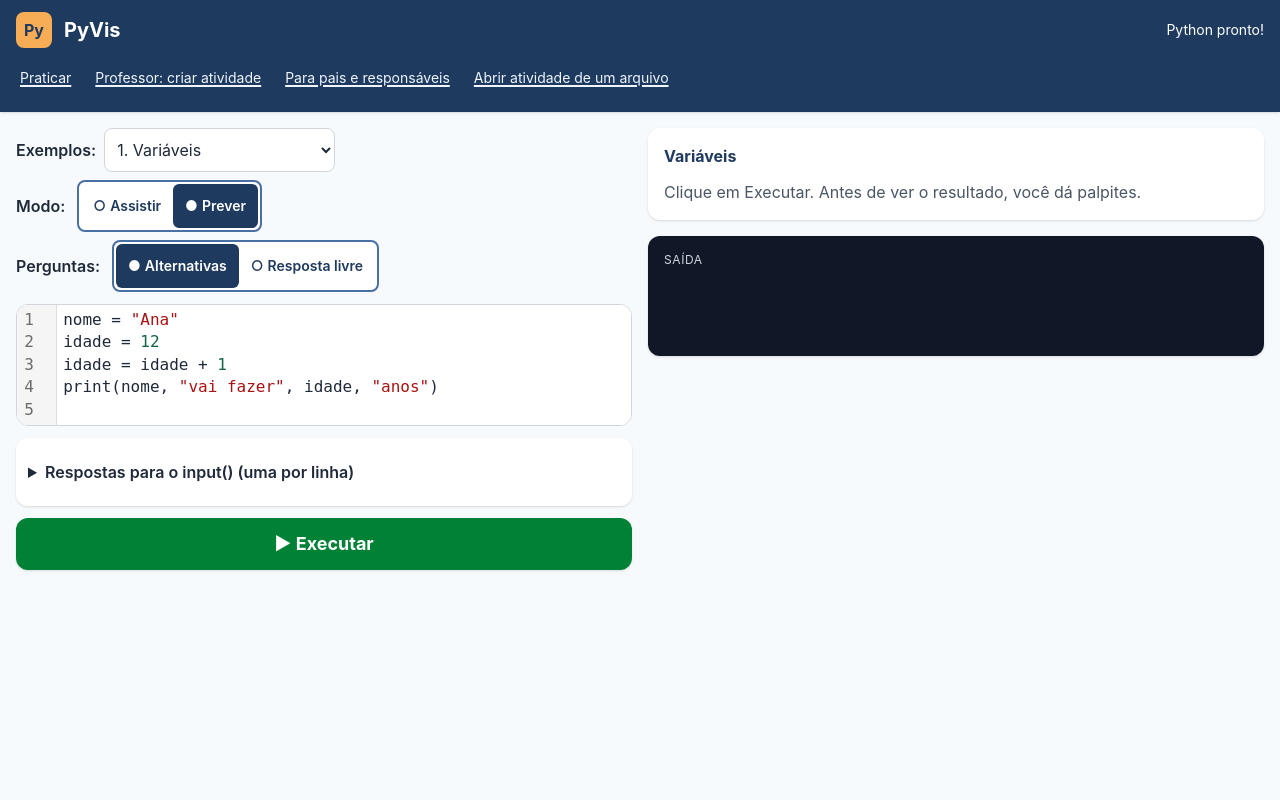
Scenario: App no modo assistir › um erro do programa aparece no último passo
The width and height of the screenshot is (1280, 800).
Expected: the text "Python pronto!" is shown, [1166, 20, 1264, 40]
Click the radio button labelled "Assistir" at (127, 206), box [93, 197, 161, 214]
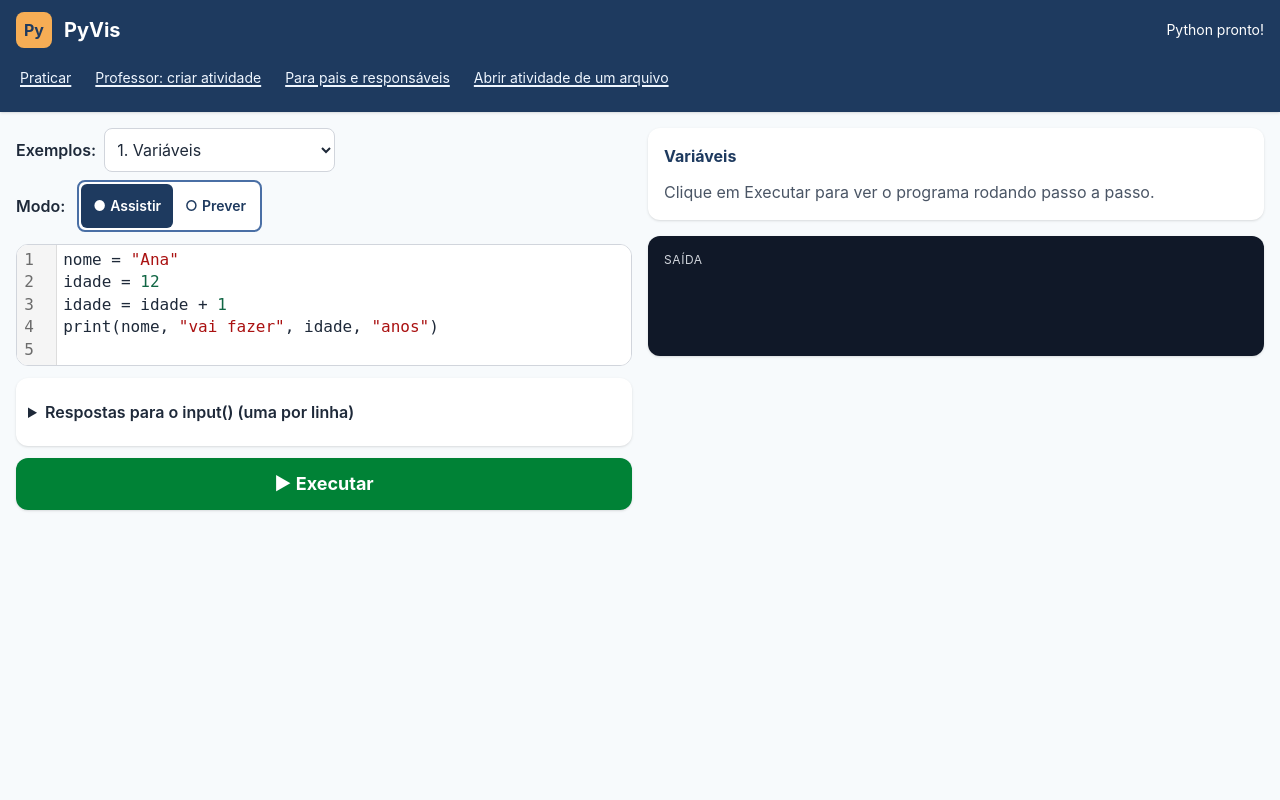
Select "8. Encontre o erro" in the dropdown labelled "Exemplos:" at (220, 150), box [104, 128, 335, 172]
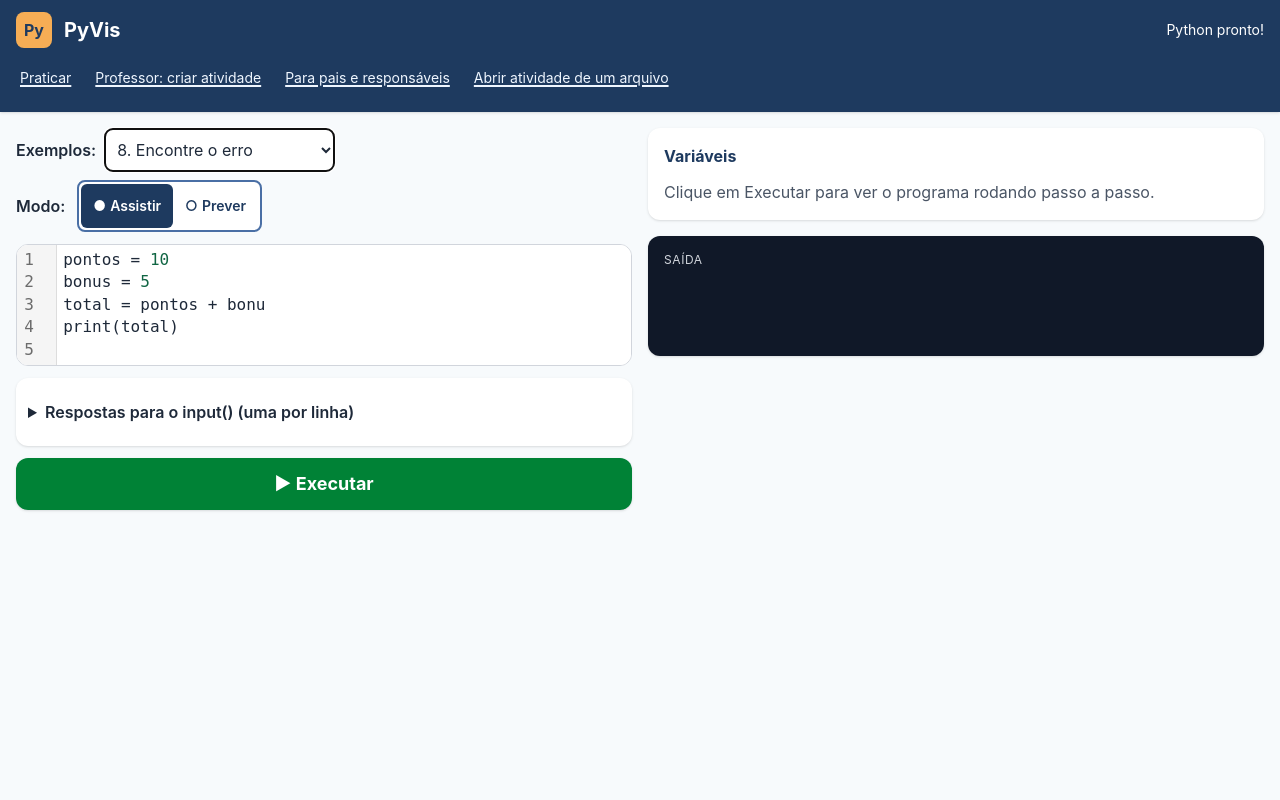
Click the button "▶ Executar" at (324, 484), box [16, 458, 632, 510]
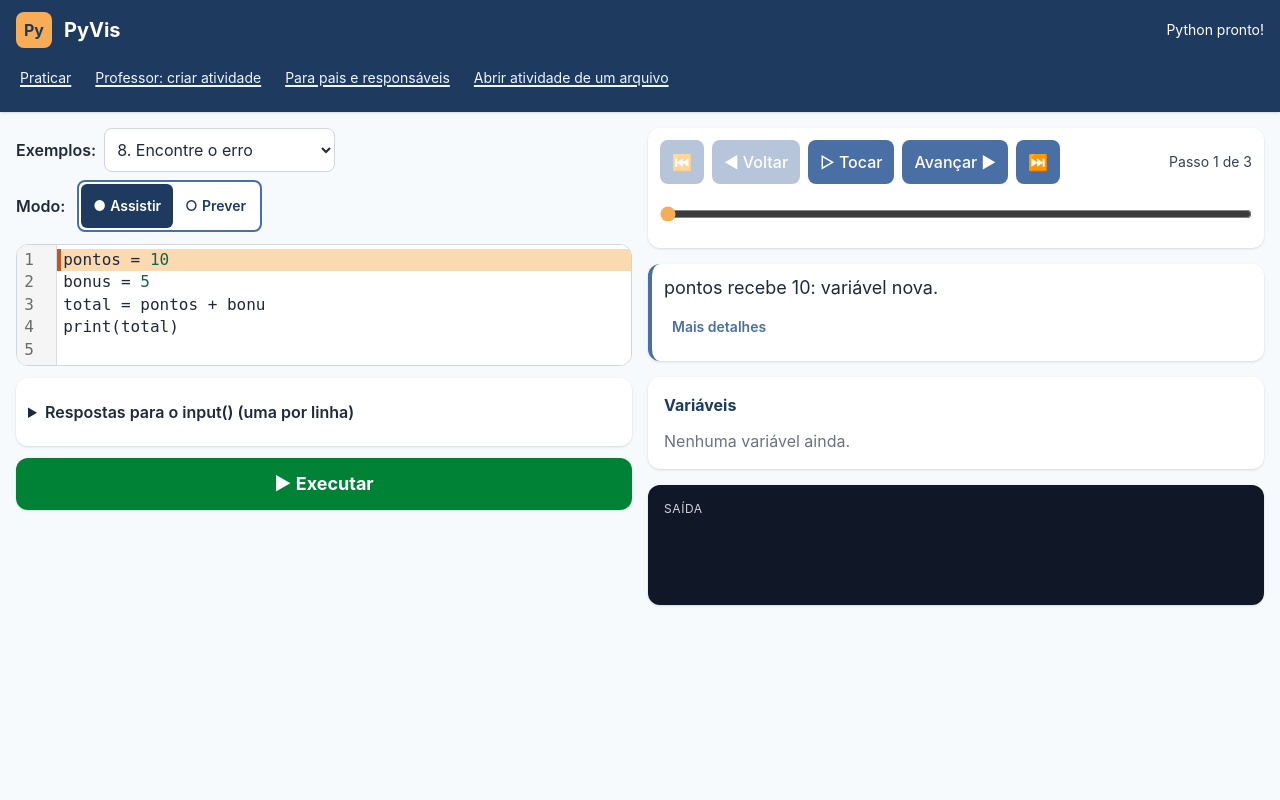
Expected: the text "pontos recebe 10: variável nova." is shown, [664, 277, 938, 298]
Click the button named "Último passo" at (1038, 162), box [1016, 140, 1060, 184]
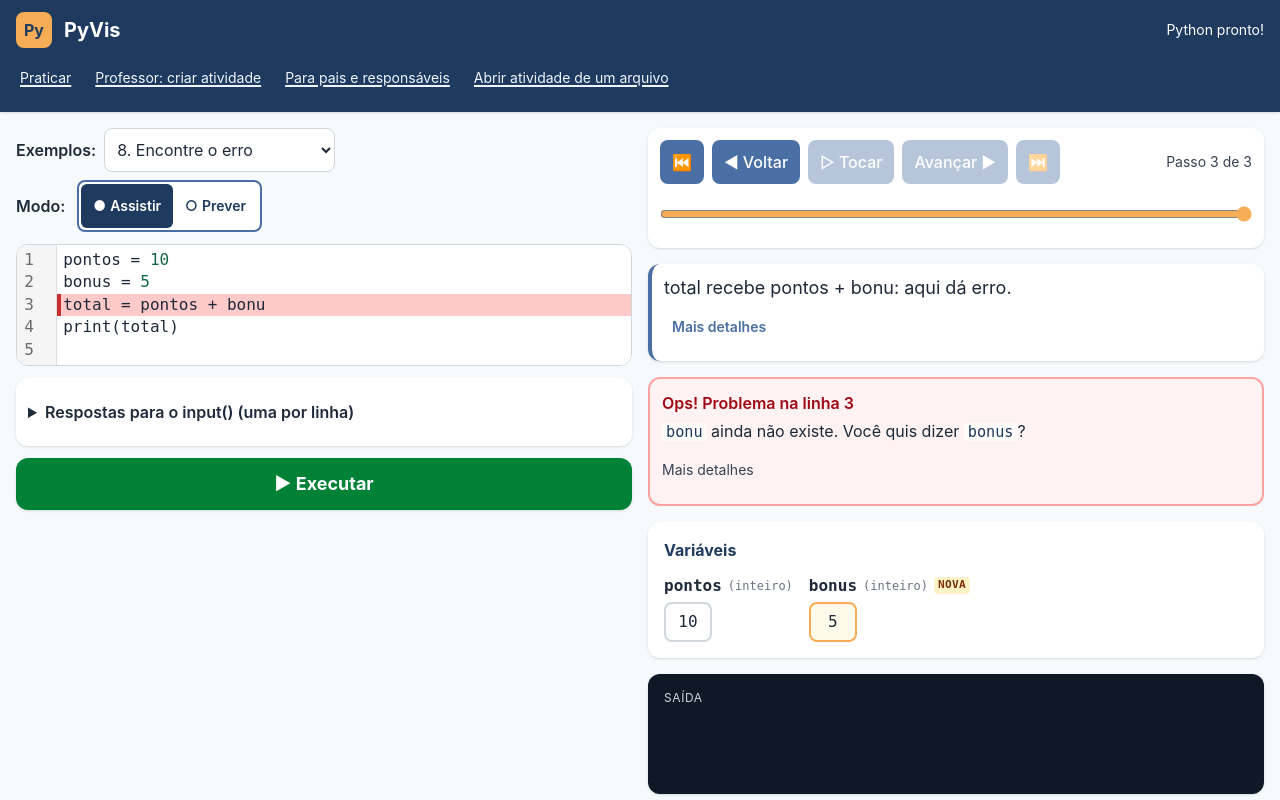
Expected: the text box with class "cm-linha-erro" reads "total = pontos + bonu", [63, 295, 266, 314]
Expected: the message shows "Problema na linha 3", [702, 393, 854, 413]
